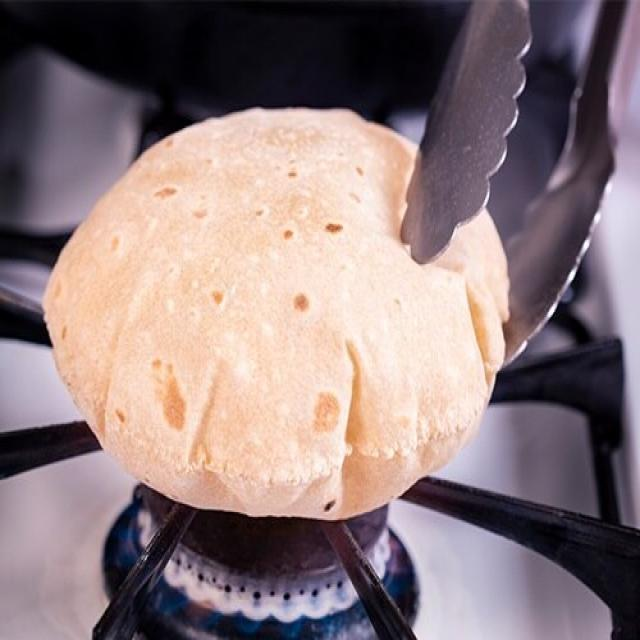ROTI: (44, 109, 513, 514), (45, 104, 512, 472)
